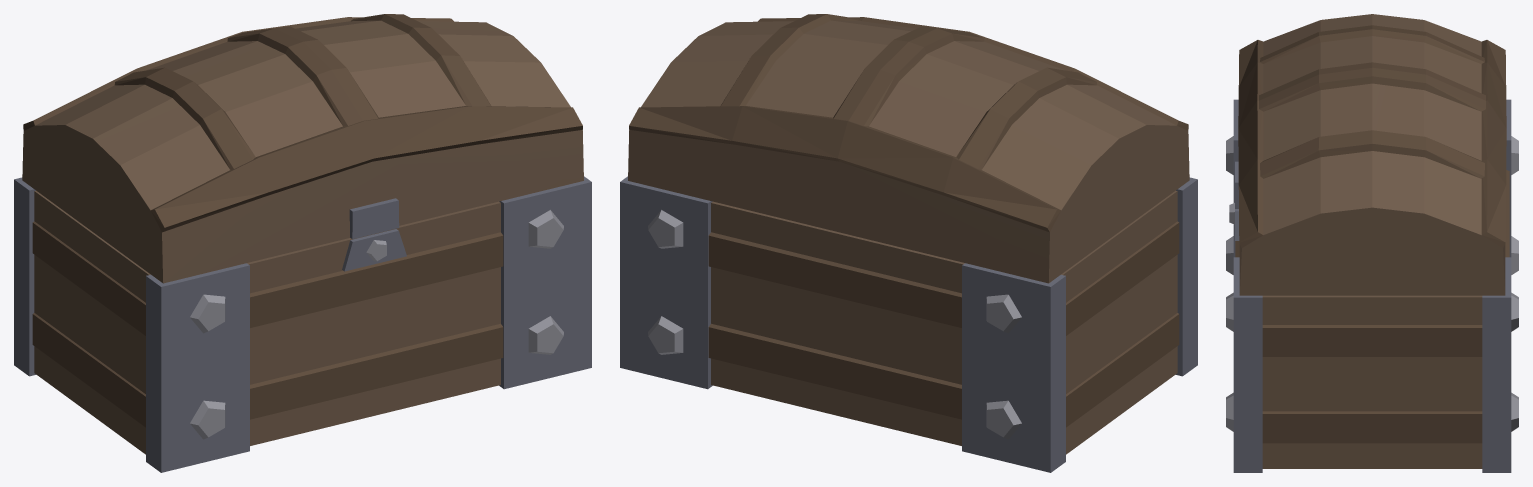
The model's file is _trunk_20.fbx.
3 renders of one model, left to right at view 1: azimuth 30°, elevation 25°; view 2: azimuth 150°, elevation 25°; view 3: azimuth 270°, elevation 25°, orthographic. The views are drawn at different scales.
Visible parts, largest first — view 1: trunk_20; view 2: trunk_20; view 3: trunk_20.
Boxes of the visible parts, x1,y1,x2,y2 form: trunk_20: (14, 14, 591, 472); trunk_20: (620, 14, 1197, 472); trunk_20: (1226, 14, 1518, 472).
Bounding box in the file's own units: 90.6 × 65.29 × 56.6.
